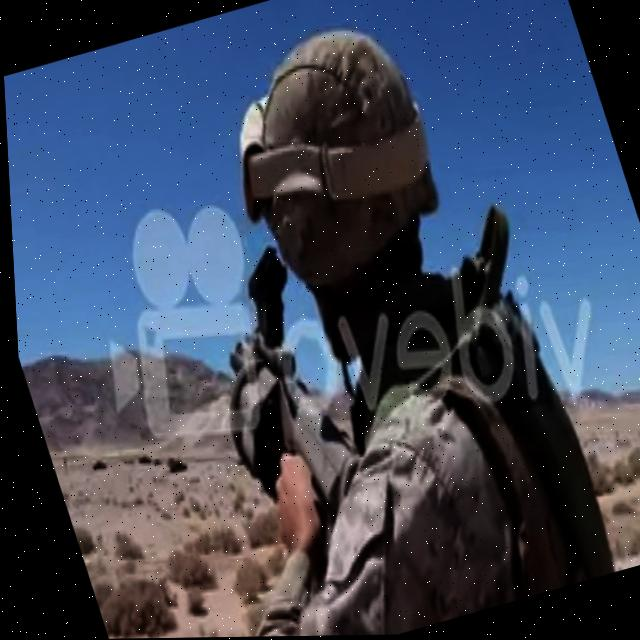rocket: (151, 221, 417, 552)
